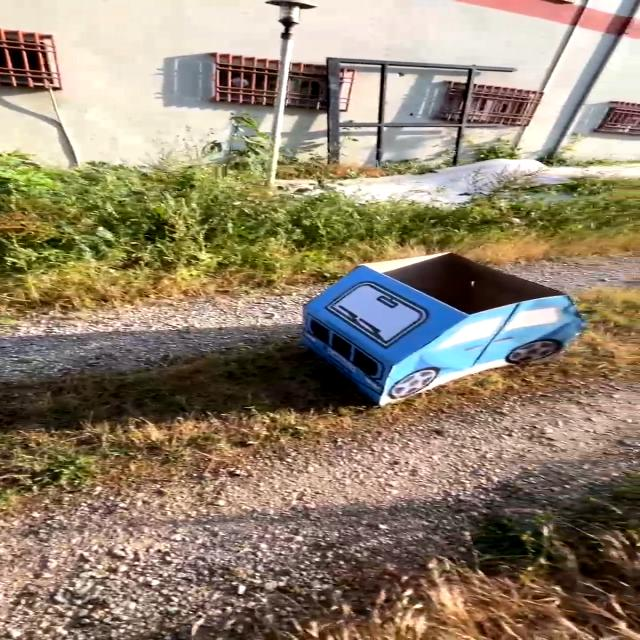blue_car: (242, 238, 606, 432)
